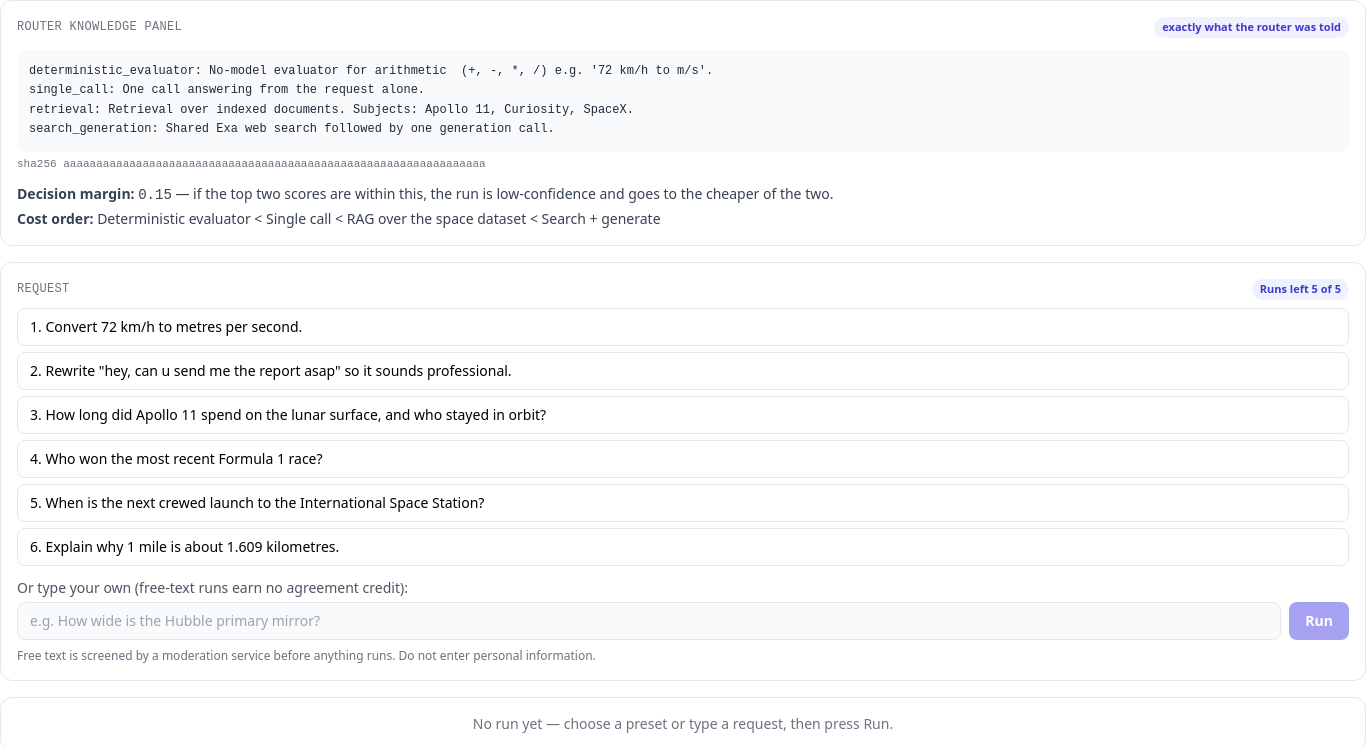
it: a routed preset run › drops the counter from 5 to 4 on run_end
Expected: the text with test id "runs-remaining" reads "Runs left 5 of 5", [1252,279,1349,300]
Click the button "next crewed launch": [265, 502] box [17,484,1349,522]
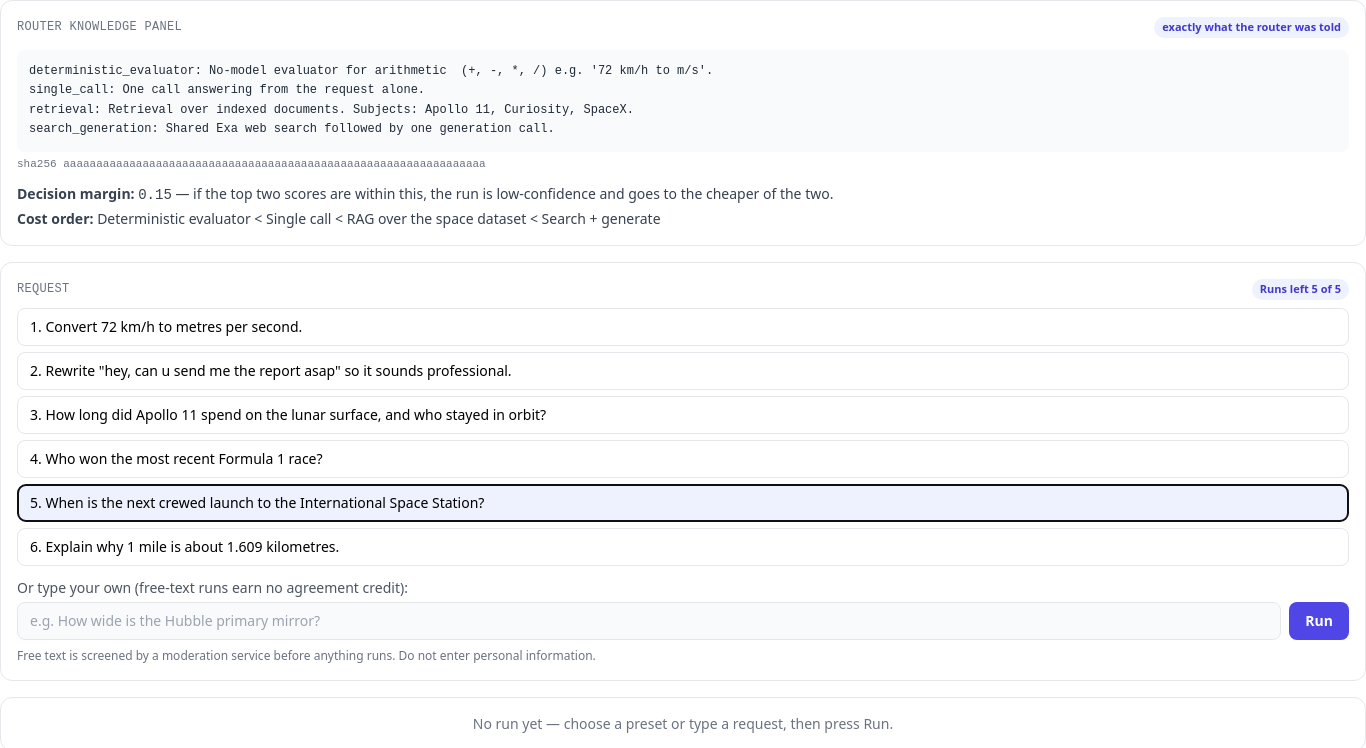
Click the button "Run": [1319, 620] box [1289,602,1349,640]
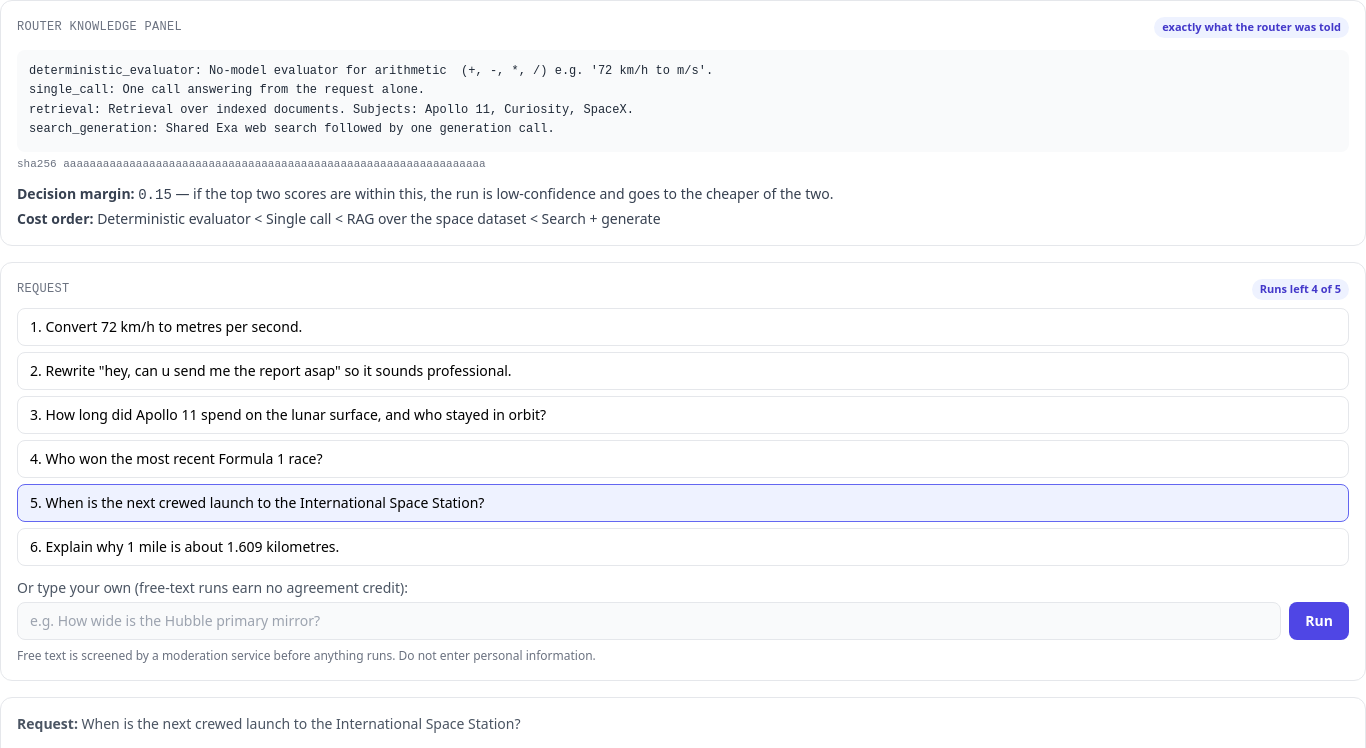
Result: the text with test id "runs-remaining" reads "Runs left 4 of 5" at [1252,279,1349,300]
